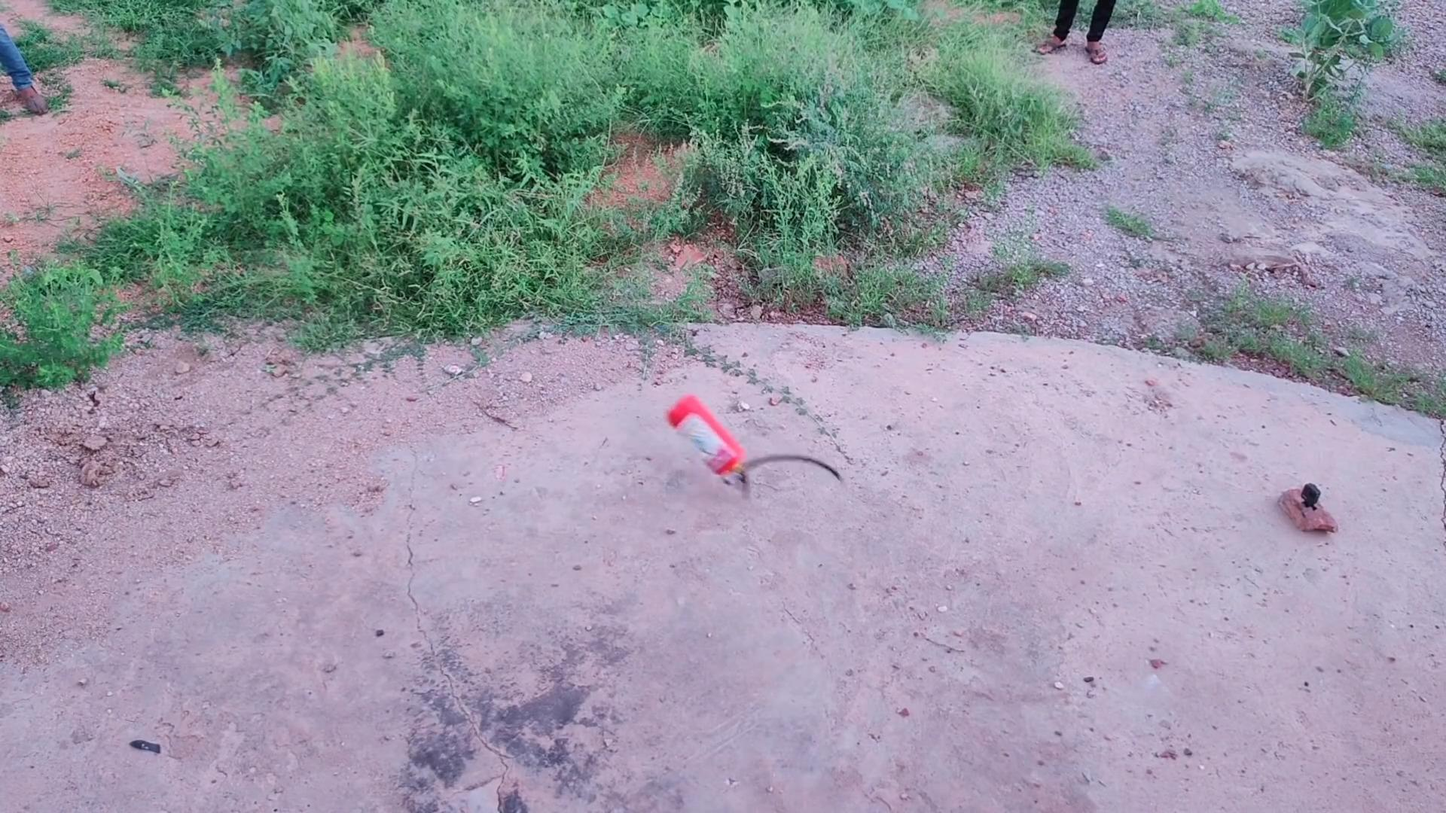FireExtinguisher: (663, 382, 774, 495)
